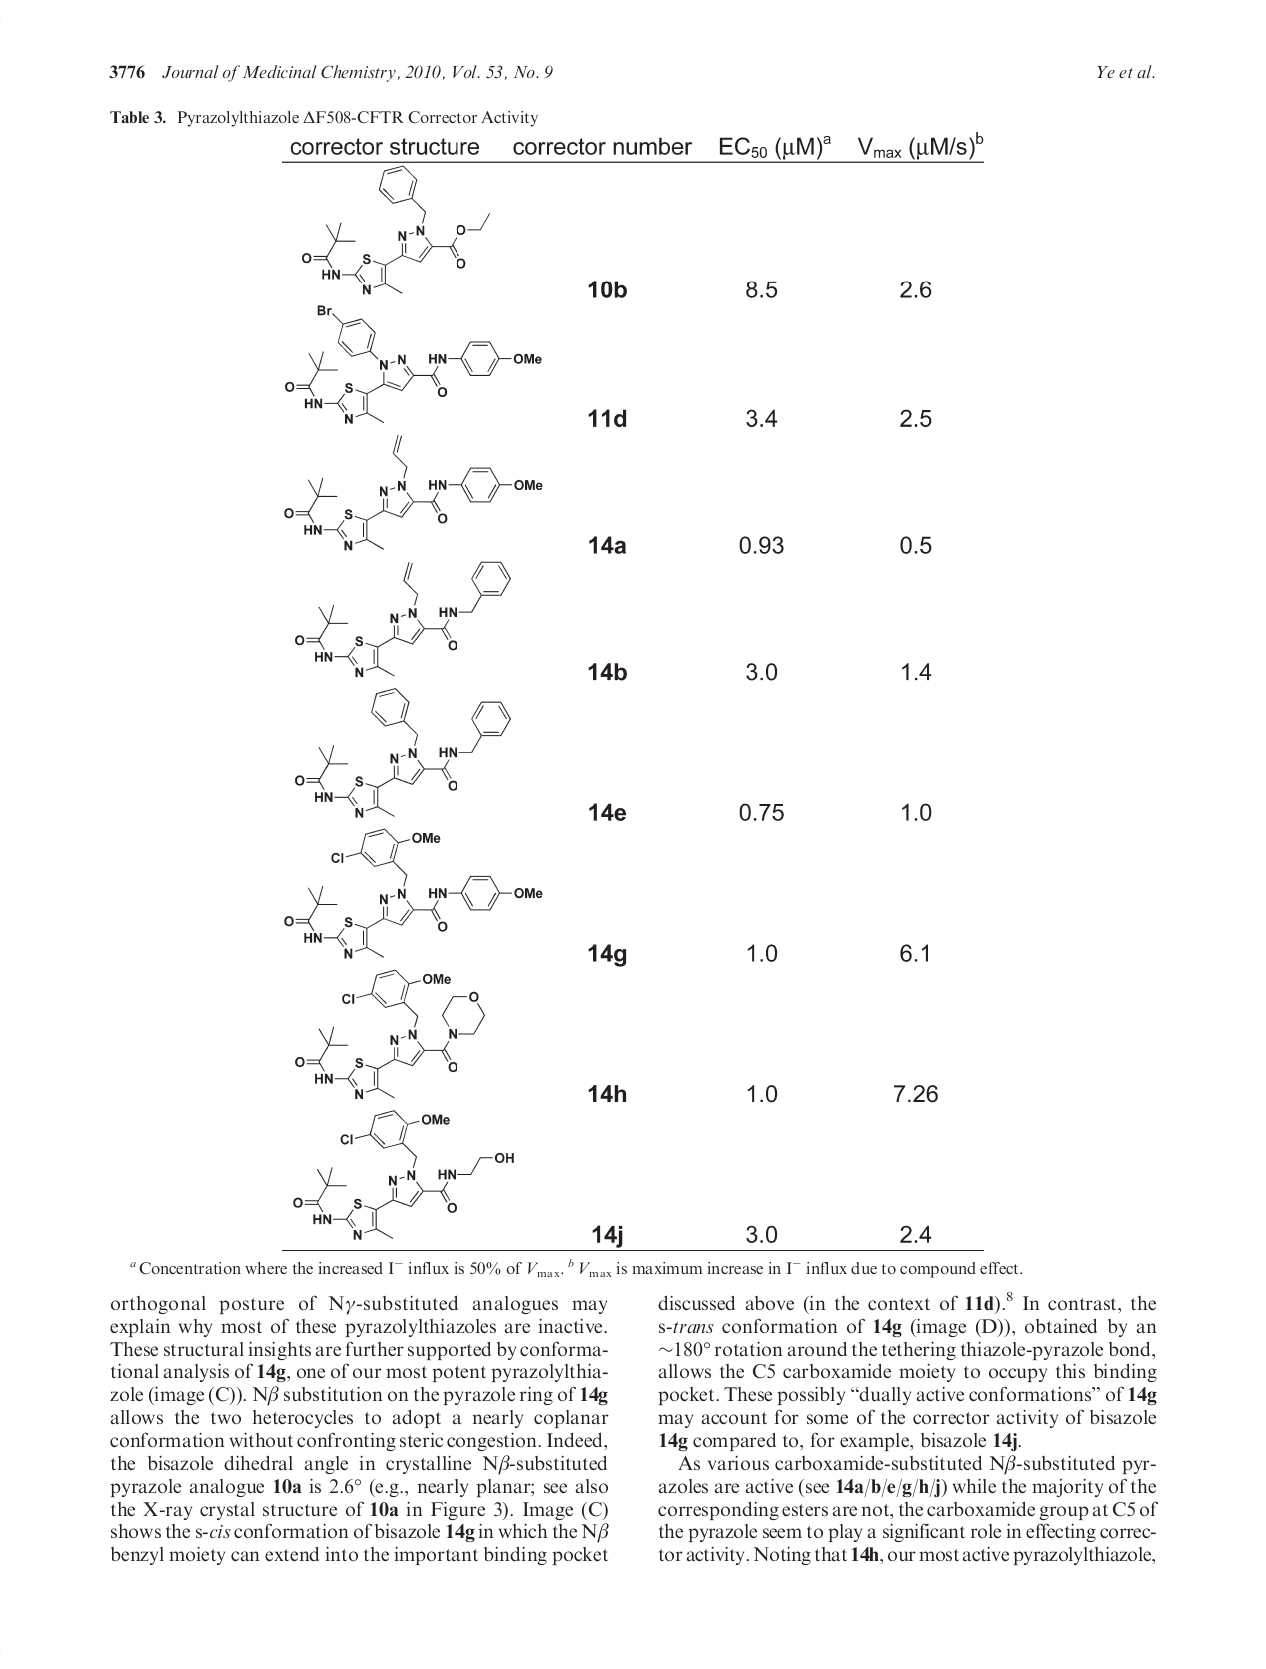exist_molecular: (283, 821, 548, 963), (286, 426, 547, 553), (283, 302, 544, 426), (293, 680, 519, 821), (293, 1102, 516, 1239), (295, 551, 516, 680), (293, 965, 489, 1102), (302, 164, 489, 298)
